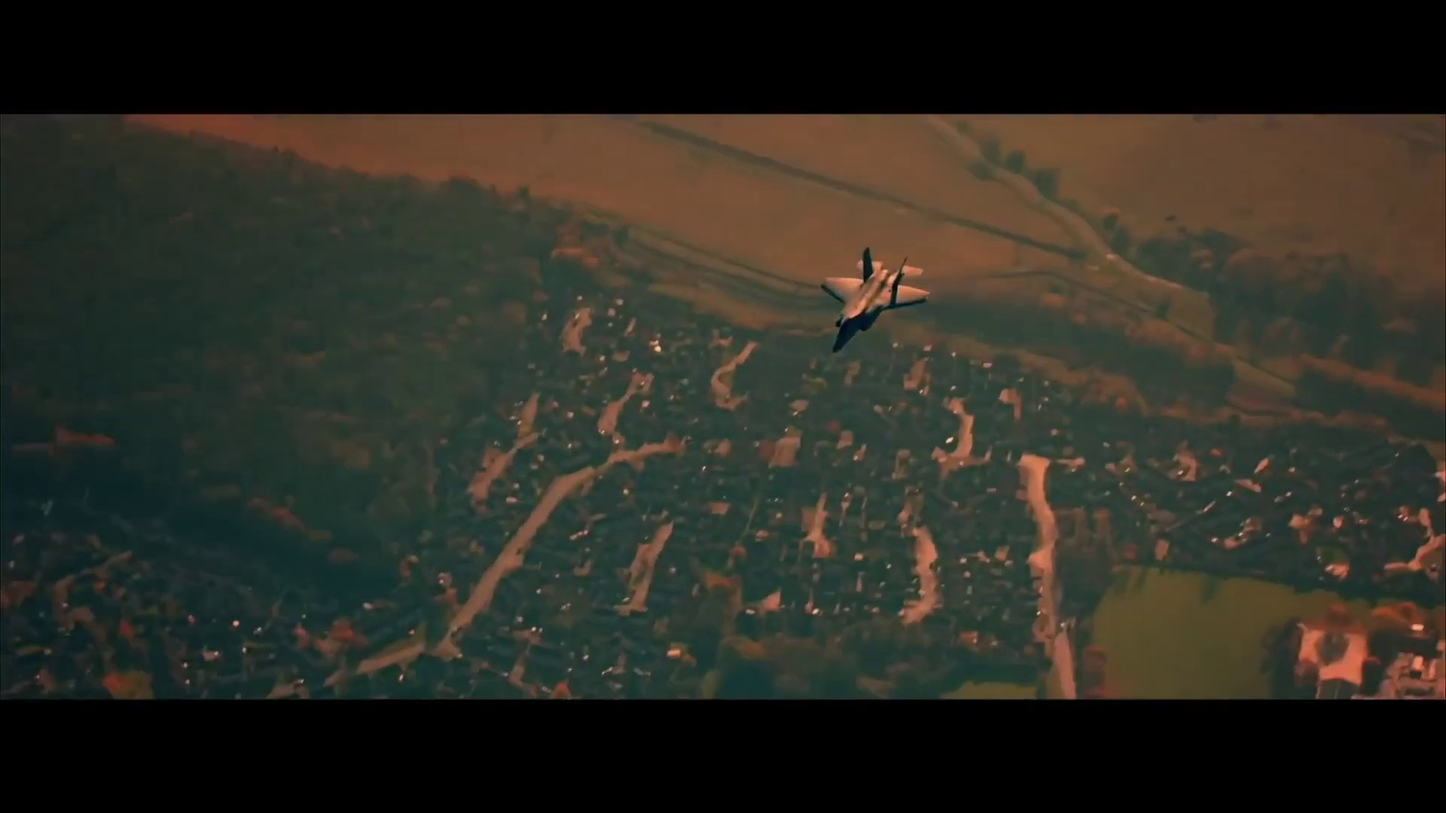F35: (814, 239, 936, 359)
